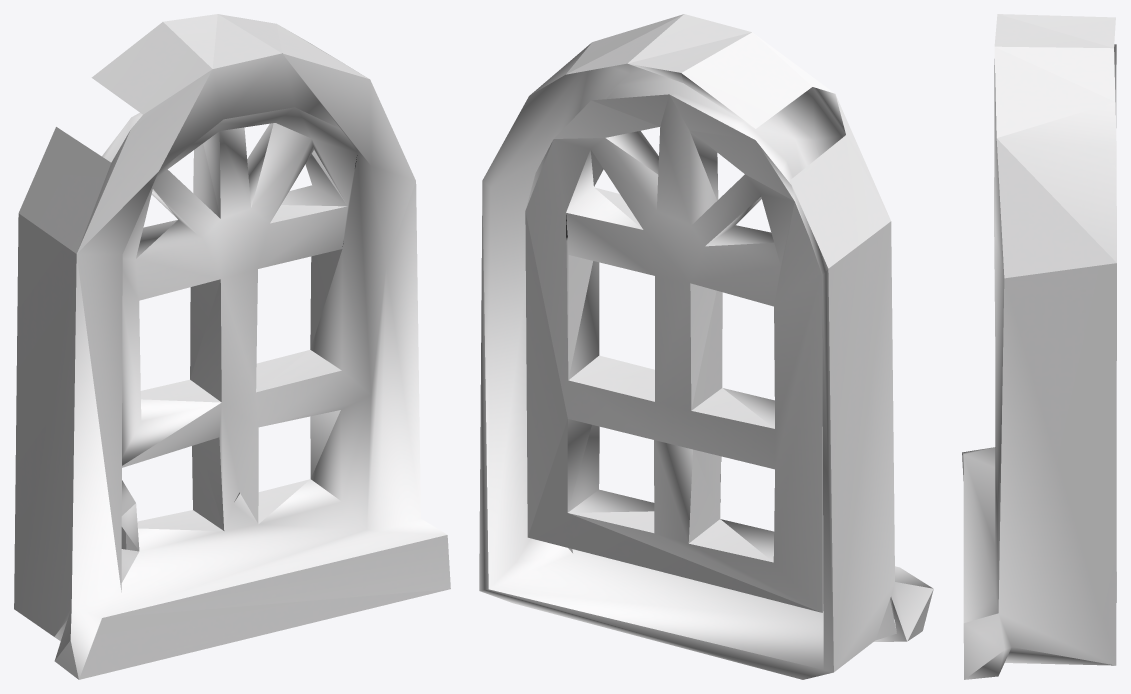
The model's file is arched-cottage-window.glb.
3 renders of one model, left to right at view 1: azimuth 30°, elevation 25°; view 2: azimuth 150°, elevation 25°; view 3: azimuth 270°, elevation 25°, orthographic. The views are drawn at different scales.
Parts seen in each view (by area): view 1: geometry_0.001; view 2: geometry_0.001; view 3: geometry_0.001.
Boxes of the visible parts, left/top/right/bottom form: geometry_0.001: left=14, top=14, right=450, bottom=679; geometry_0.001: left=479, top=14, right=933, bottom=679; geometry_0.001: left=962, top=14, right=1116, bottom=679.
Size of the model in its own units: 0.71 by 0.9953 by 0.2488.
1 material, 1 textured.
